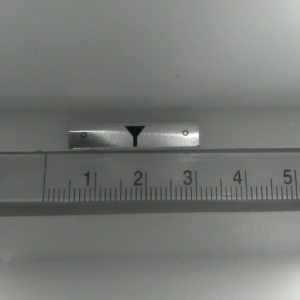1: (83, 171, 89, 186)
2: (132, 170, 142, 186)
3: (182, 170, 192, 185)
4: (231, 170, 242, 185)
5: (281, 169, 292, 185)
finger: (123, 126, 145, 147)
